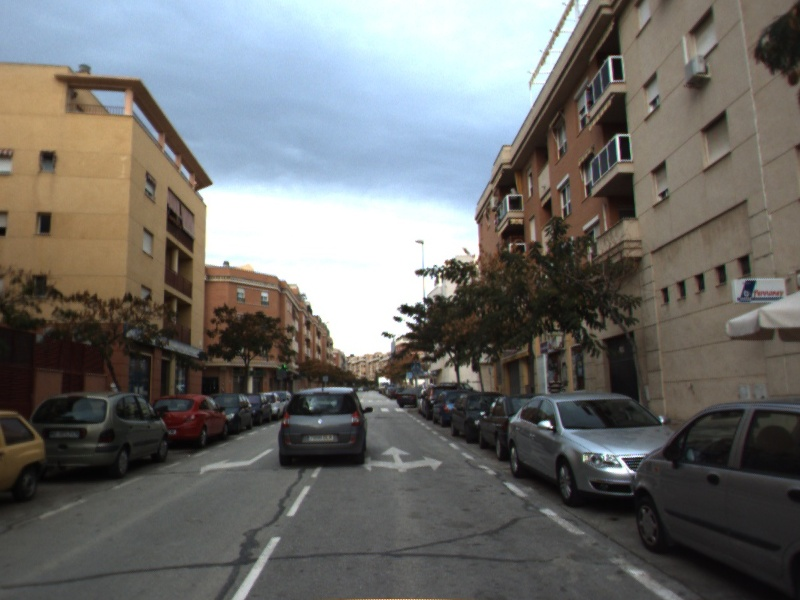STRAIGHT_LEFT_RIGHT: (360, 444, 446, 475)
